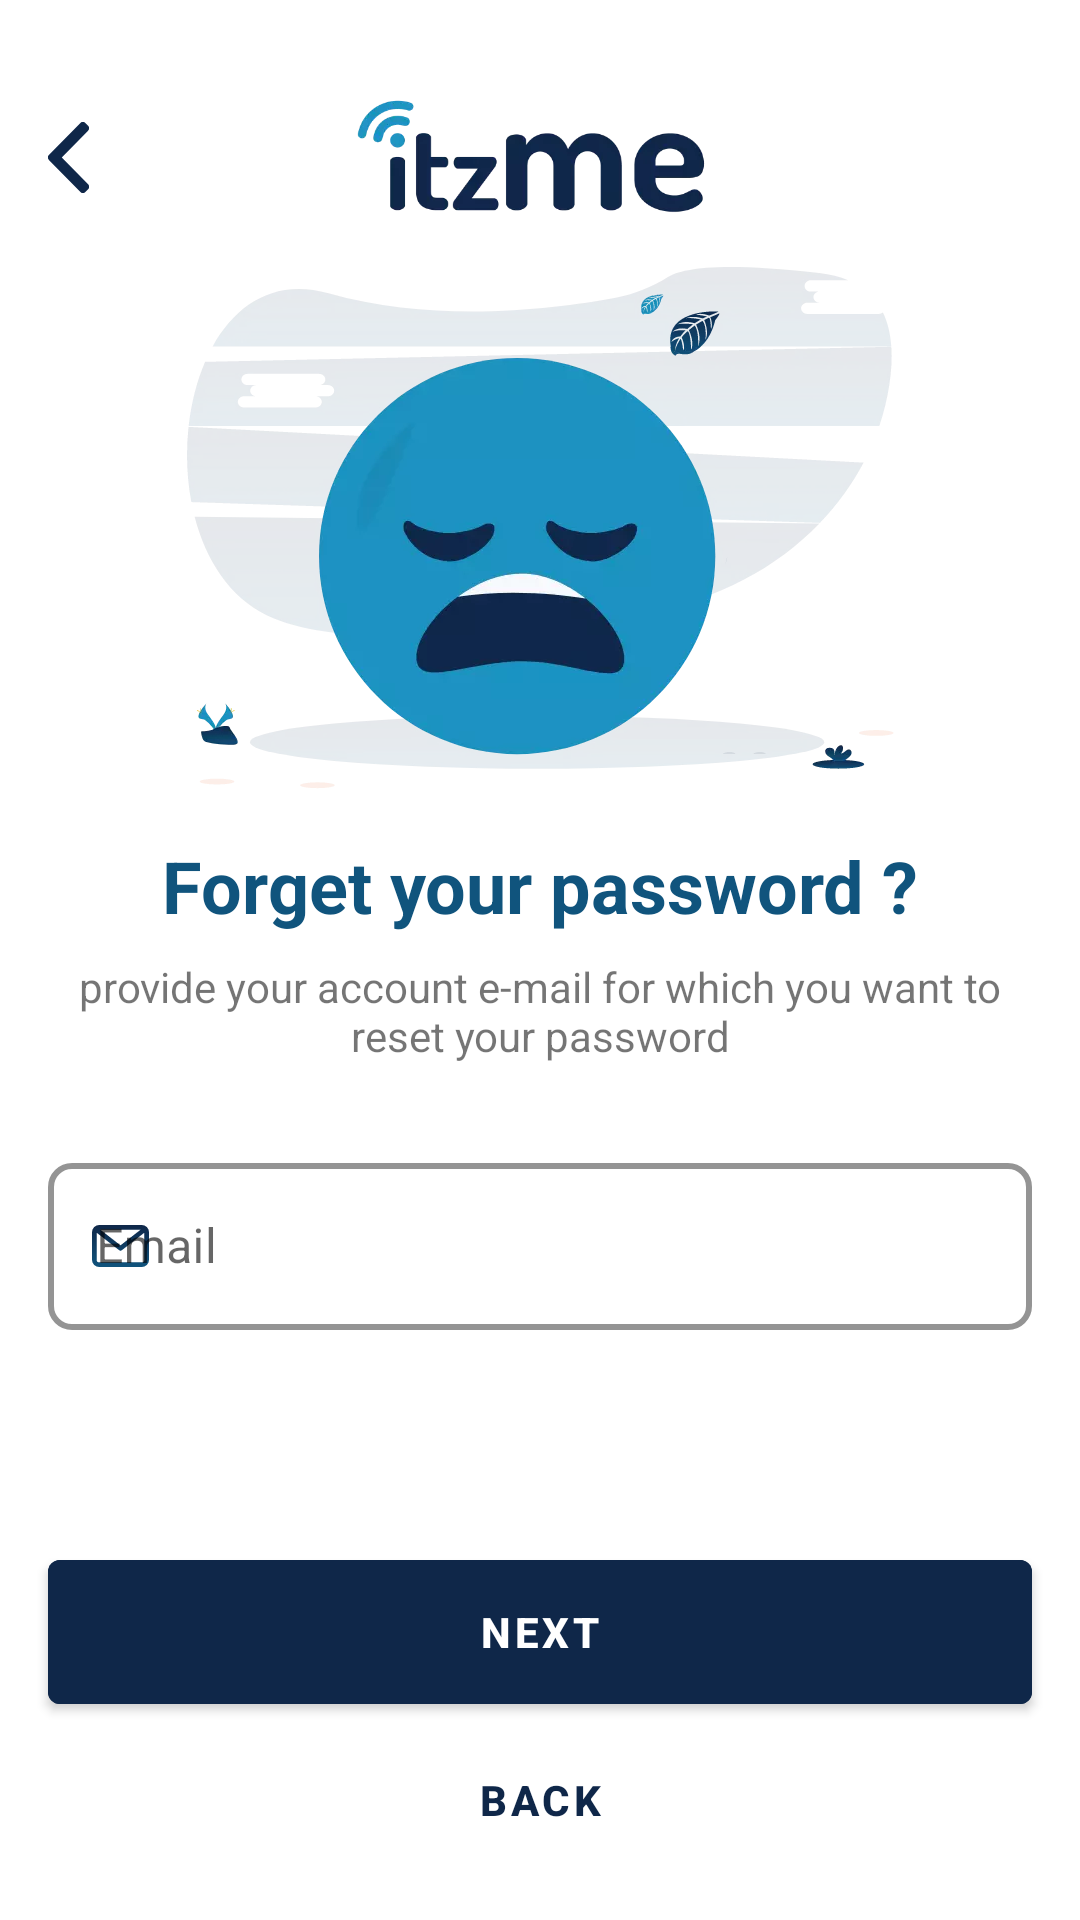

Locate icon controls on the screen. Image size 1080*1920, boxes as (left=x1, top=y1, right=x2, bottom=y2).
back: (left=48, top=122, right=89, bottom=193)
